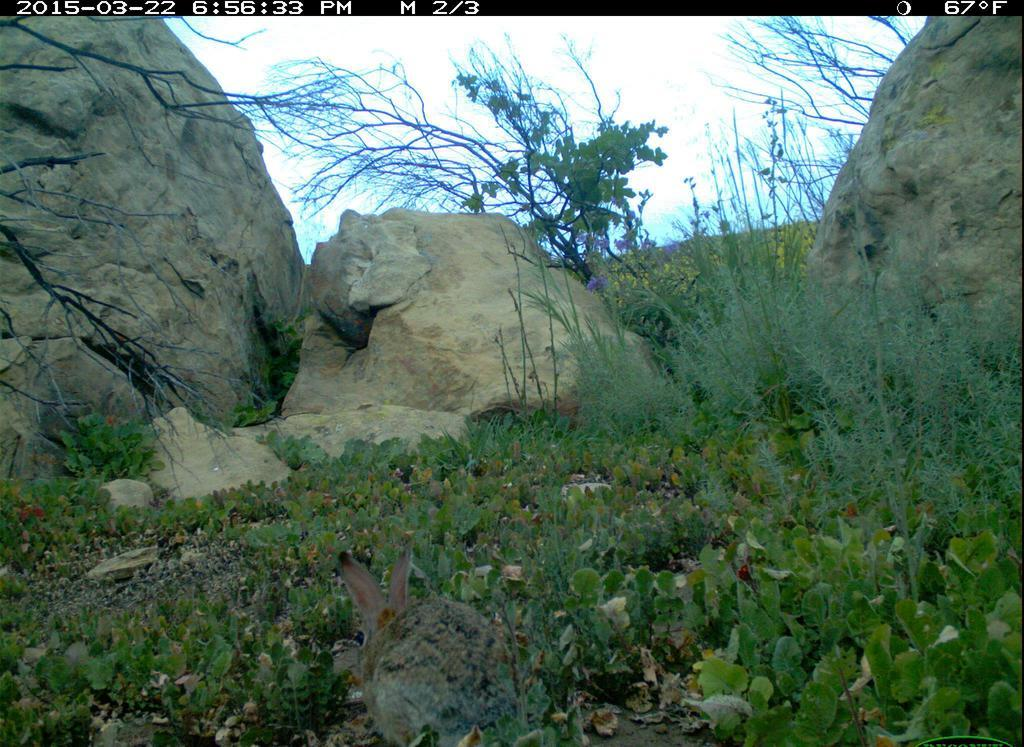rabbit: (313, 538, 532, 747)
